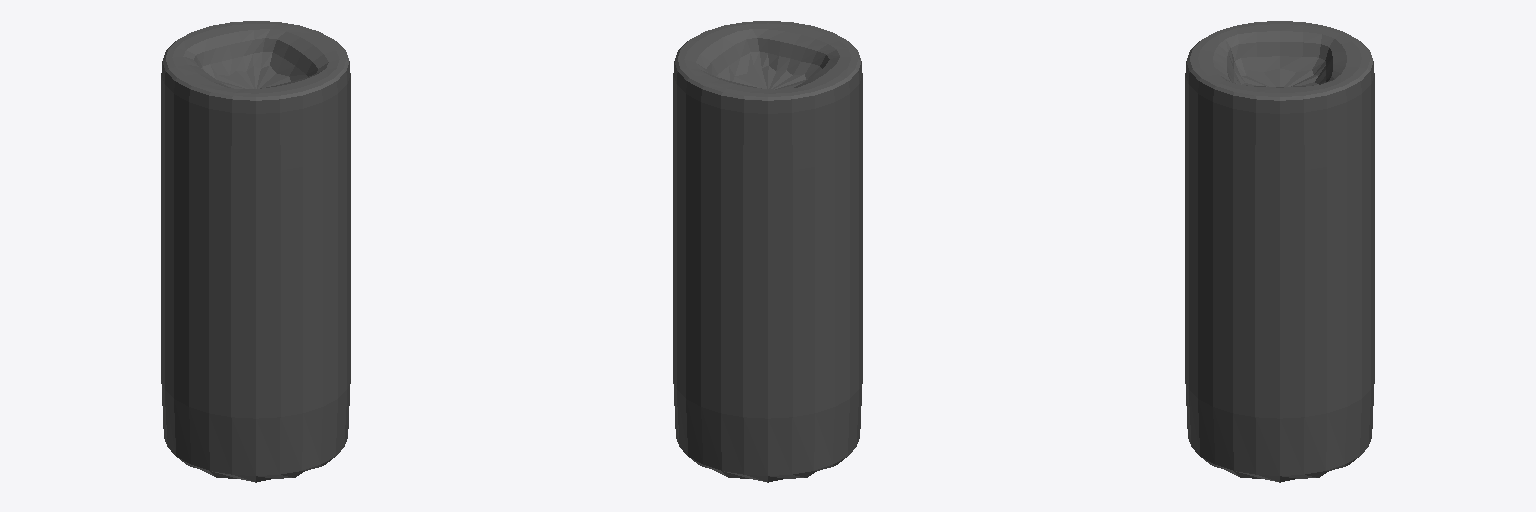
Rendered from Pillarstone1.obj.
3 views of the same model, side by side, from view 1: azimuth 30°, elevation 25°; view 2: azimuth 150°, elevation 25°; view 3: azimuth 270°, elevation 25° (orthographic).
Visible parts, largest first — view 1: Cube.019; view 2: Cube.019; view 3: Cube.019.
Part boxes in pixels (x1,y1,x2,y2): Cube.019: (161, 21, 350, 482); Cube.019: (673, 21, 862, 482); Cube.019: (1185, 21, 1374, 482).
Size of the model in its own units: 0.8684 by 2 by 0.8684.